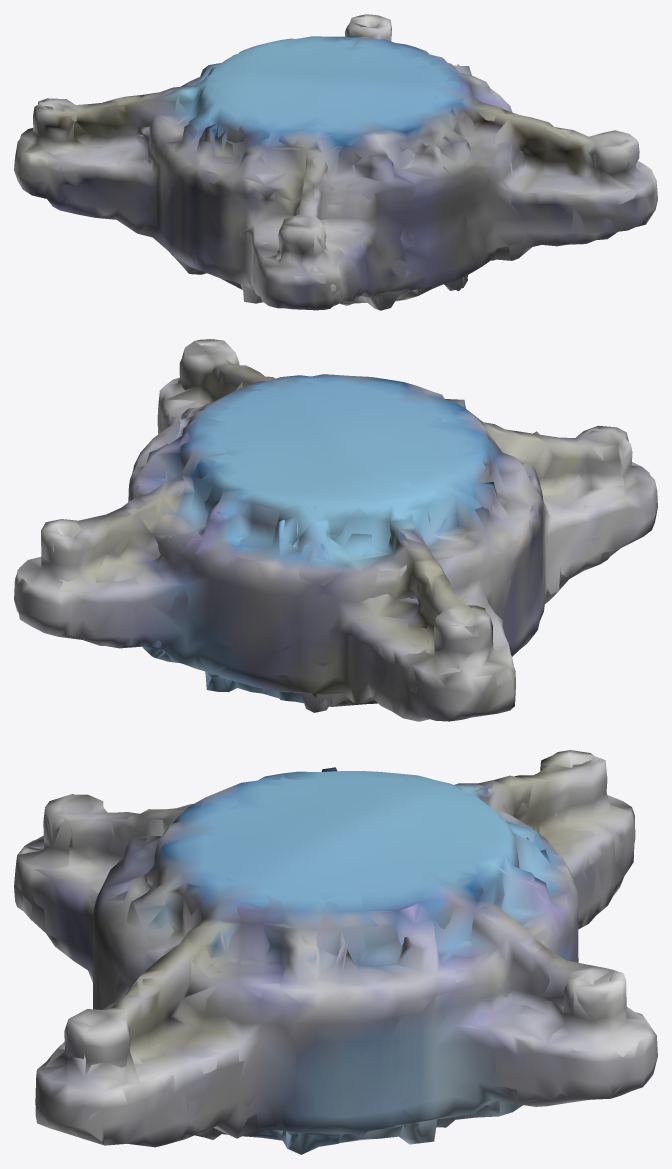
File: allied_grand_cannon.glb
The picture shows the model from 3 angles, top to bottom: view 1: azimuth 30°, elevation 25°; view 2: azimuth 150°, elevation 25°; view 3: azimuth 270°, elevation 25°; orthographic projection. The views are drawn at different scales.
Visible parts, largest first — view 1: allied_grand_cannon; view 2: allied_grand_cannon; view 3: allied_grand_cannon.
Part boxes in pixels (box(x1,y1,x2,y2)): allied_grand_cannon: box(14, 14, 657, 310); allied_grand_cannon: box(14, 339, 657, 721); allied_grand_cannon: box(14, 750, 657, 1154).
Bounding box in the file's own units: 2.2 × 0.7834 × 1.92.
